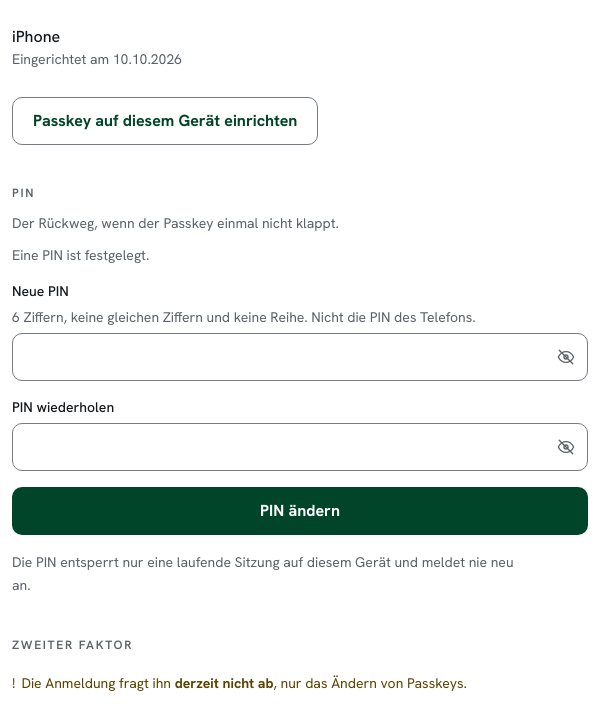
Test: MeinKontoPage › legt eine neue PIN fest und sagt es
(page scrolled)
Expected: the text "Eine PIN ist festgelegt." is shown, [12,246,149,264]
Type "483920" into the password field labelled "Neue PIN" at (300,357), box [12,333,588,381]
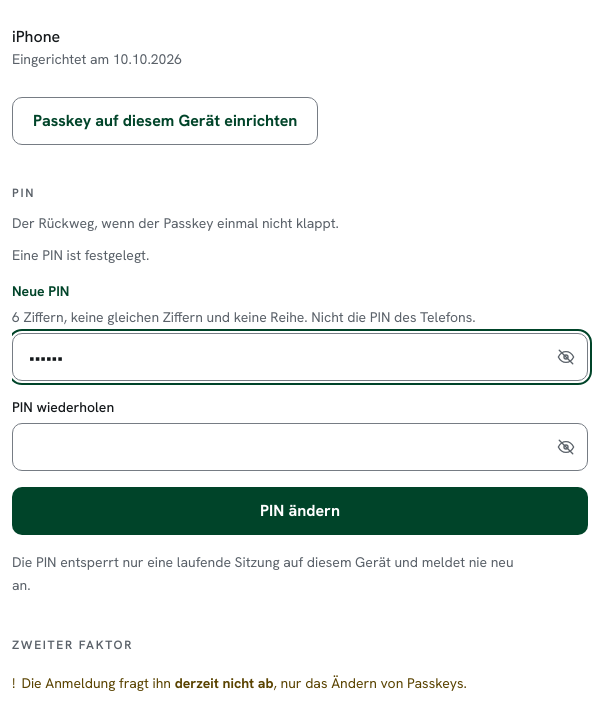
Type "483920" into the password field labelled "PIN wiederholen" at (300,447), box [12,423,588,471]
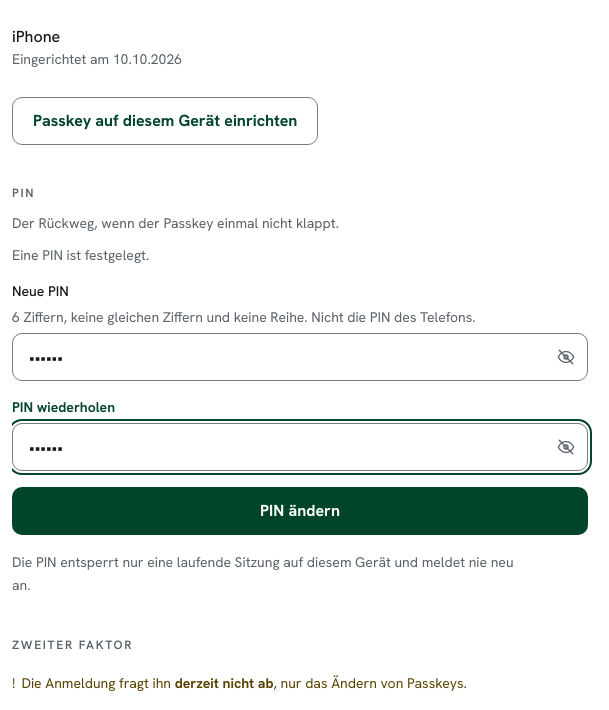
Click the button "PIN ändern" at (300,511), box [12,487,588,535]
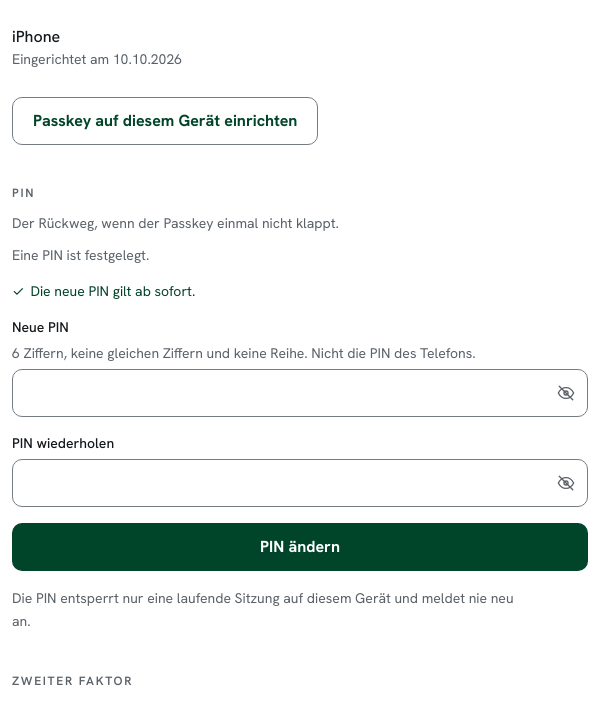
Expected: the text "Die neue PIN gilt ab sofort." is shown, [30,282,195,300]
